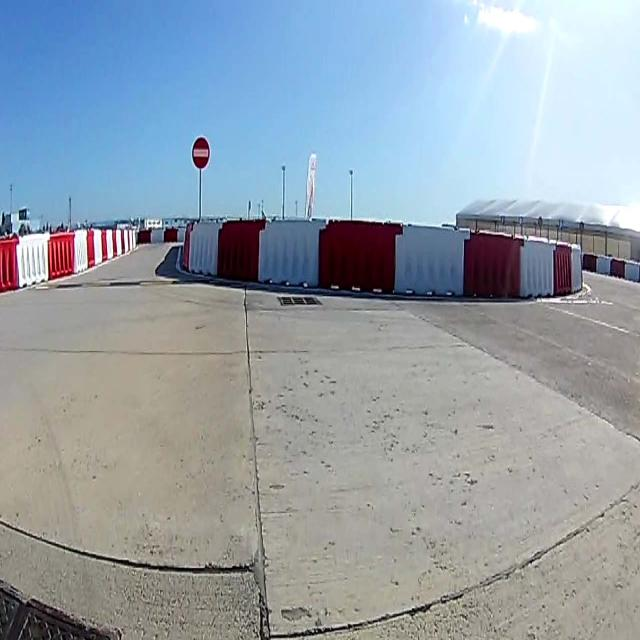girisyok: (192, 137, 210, 171)
